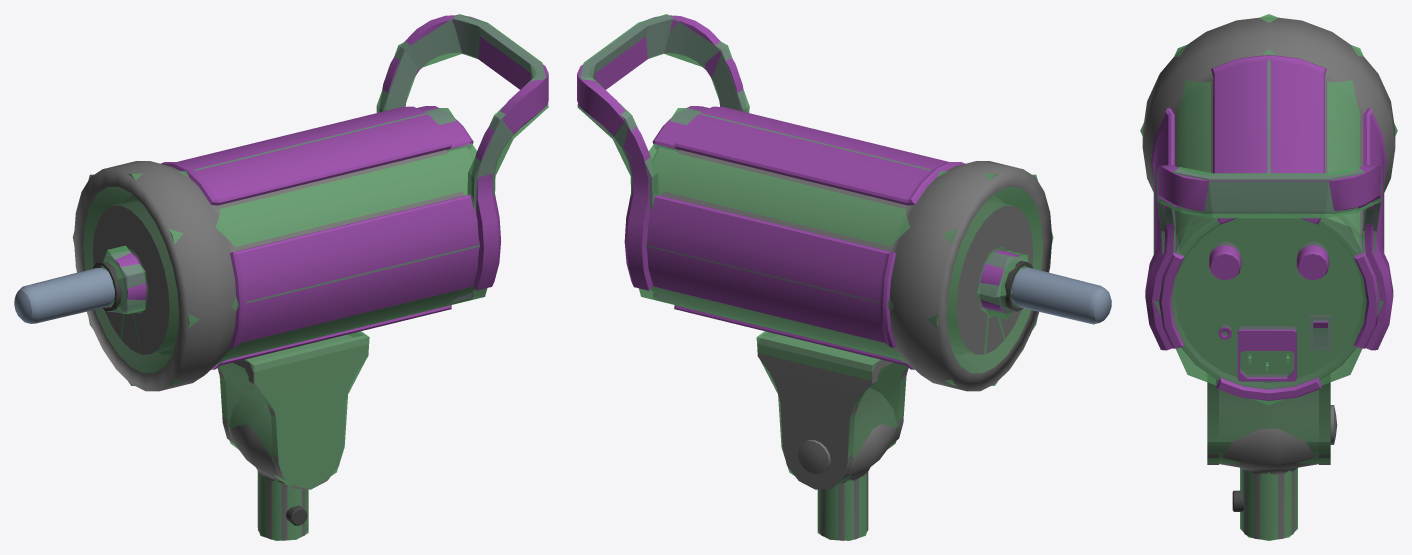
File: TripodLamp_01_Mesh.fbx
3 renders of one model, left to right at view 1: azimuth 30°, elevation 25°; view 2: azimuth 150°, elevation 25°; view 3: azimuth 270°, elevation 25°, orthographic. The views are drawn at different scales.
Parts seen in each view (by area): view 1: TripodLamp_Lamp_01_LOD0, TripodLamp_Lamp_01_col; view 2: TripodLamp_Lamp_01_LOD0, TripodLamp_Lamp_01_col; view 3: TripodLamp_Lamp_01_LOD0, TripodLamp_Lamp_01_col.
Part boxes in pixels (bbox=[...]): TripodLamp_Lamp_01_LOD0: bbox=[14, 15, 548, 540]; TripodLamp_Lamp_01_col: bbox=[72, 14, 548, 540]; TripodLamp_Lamp_01_LOD0: bbox=[577, 15, 1111, 540]; TripodLamp_Lamp_01_col: bbox=[577, 14, 1053, 540]; TripodLamp_Lamp_01_LOD0: bbox=[1142, 17, 1395, 539]; TripodLamp_Lamp_01_col: bbox=[1140, 14, 1397, 540].
Size of what is drawn, in the model's own units: 0.3885 by 0.3209 by 0.1579.
